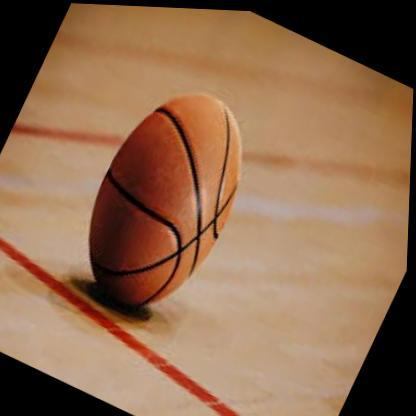basketball: (60, 62, 273, 332)
